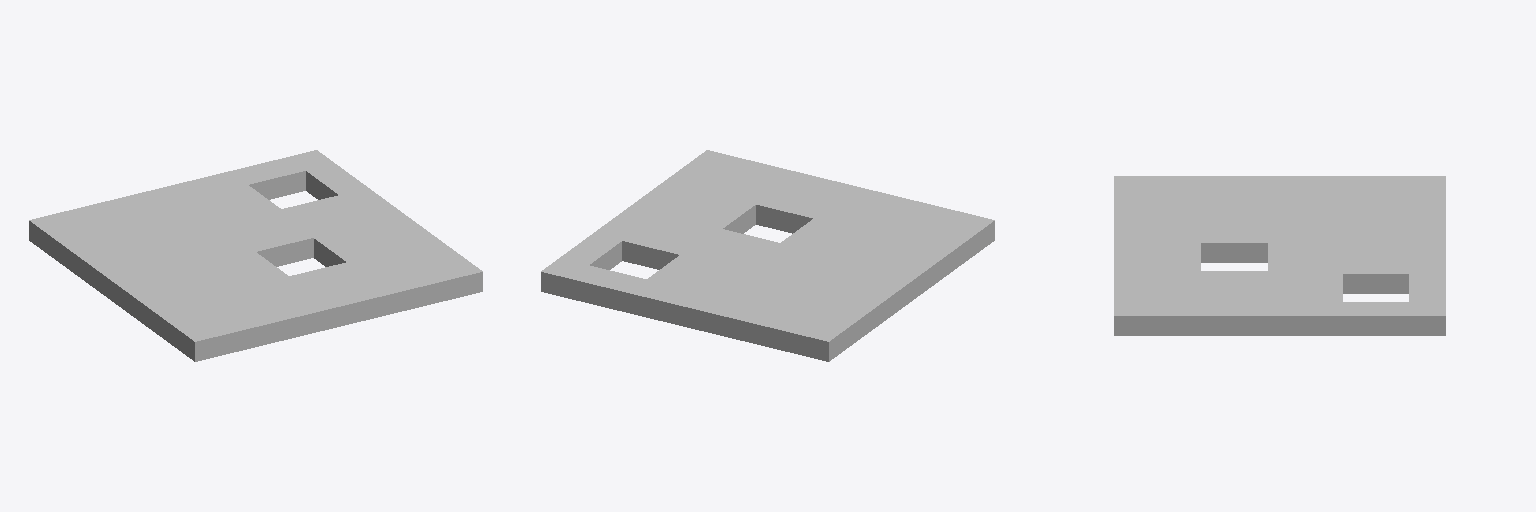
Rendered from planeHoles.obj.
The picture shows the model from 3 angles: view 1: azimuth 30°, elevation 25°; view 2: azimuth 150°, elevation 25°; view 3: azimuth 270°, elevation 25°; orthographic projection.
Parts seen in each view (by area): view 1: polySurface2; view 2: polySurface2; view 3: polySurface2.
Boxes of the visible parts, x1=… form: polySurface2: x1=29, y1=150, x2=482, y2=361; polySurface2: x1=541, y1=150, x2=994, y2=361; polySurface2: x1=1114, y1=176, x2=1445, y2=335.
Size of the model in its own units: 15 by 1 by 15.